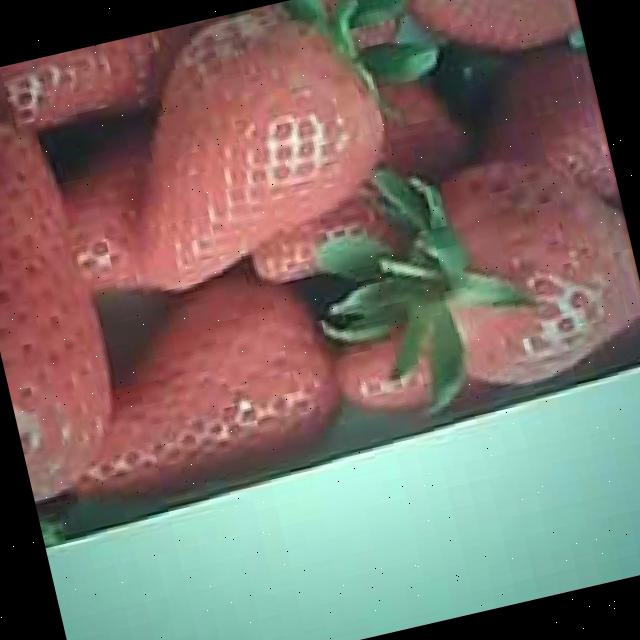strawberry: (102, 0, 411, 300), (43, 266, 352, 511), (431, 137, 640, 394)
